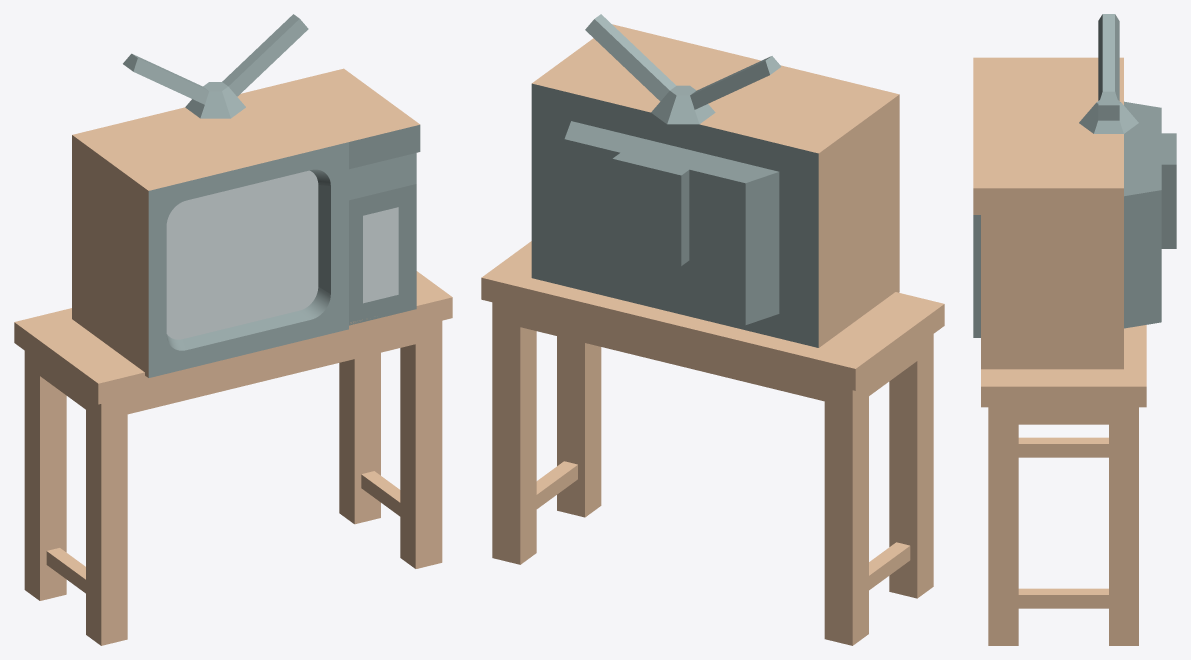
The model's file is tv_vintage.glb.
3 views of the same model, side by side, from view 1: azimuth 30°, elevation 25°; view 2: azimuth 150°, elevation 25°; view 3: azimuth 270°, elevation 25° (orthographic). The views are drawn at different scales.
Visible parts, largest first — view 1: televisionVintage(Clone), sideTable(Clone), televisionAntenna(Clone); view 2: televisionVintage(Clone), sideTable(Clone), televisionAntenna(Clone); view 3: televisionVintage(Clone), sideTable(Clone), televisionAntenna(Clone).
Boxes of the visible parts, <box> form: televisionVintage(Clone): <box>72,68,420,377</box>; sideTable(Clone): <box>14,271,452,645</box>; televisionAntenna(Clone): <box>123,14,308,118</box>; televisionVintage(Clone): <box>531,24,899,347</box>; sideTable(Clone): <box>481,241,944,645</box>; televisionAntenna(Clone): <box>585,14,781,124</box>; televisionVintage(Clone): <box>973,57,1176,369</box>; sideTable(Clone): <box>981,325,1146,645</box>; televisionAntenna(Clone): <box>1079,14,1138,133</box>.
Size of the model in its own units: 1.1 by 1.54 by 0.5535.
